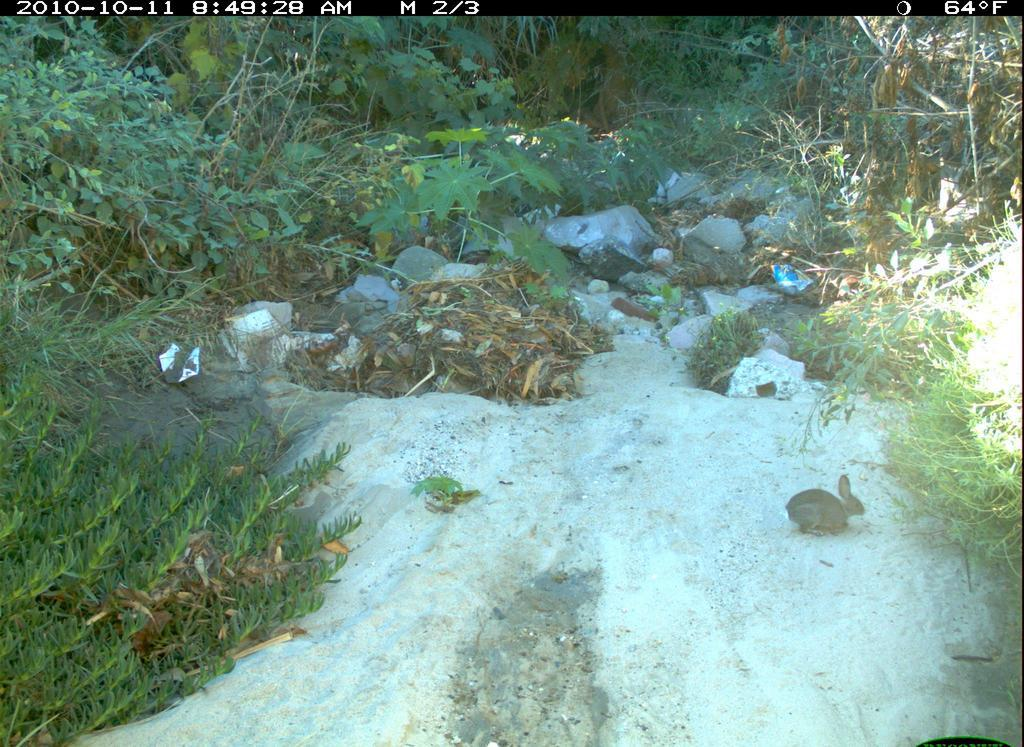rabbit: (788, 468, 868, 546)
